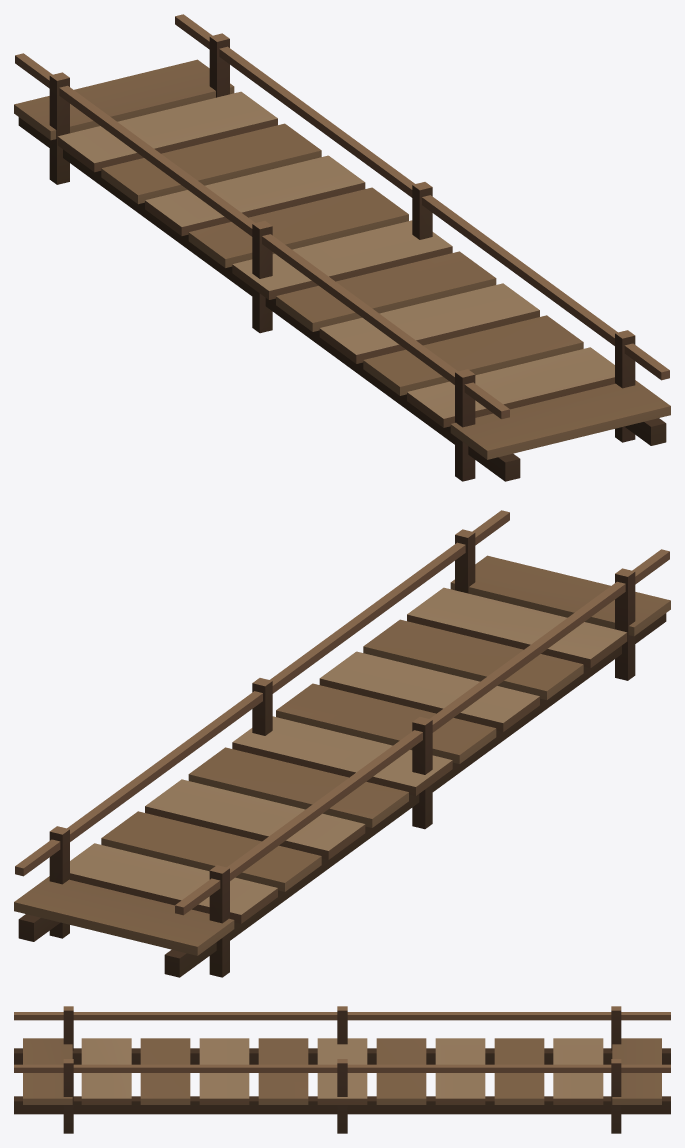
The model's file is custom-ponte-madeira.glb.
The picture shows the model from 3 angles, top to bottom: view 1: azimuth 30°, elevation 25°; view 2: azimuth 150°, elevation 25°; view 3: azimuth 270°, elevation 25°; orthographic projection. The views are drawn at different scales.
Parts seen in each view (by area): view 1: ponte-madeira; view 2: ponte-madeira; view 3: ponte-madeira.
Boxes of the visible parts, x1,y1,x2,y2 form: ponte-madeira: (14,14,670,481); ponte-madeira: (14,510,670,977); ponte-madeira: (14,1006,670,1133).
Bounding box in the file's own units: 3.4 × 1.84 × 15.6.
